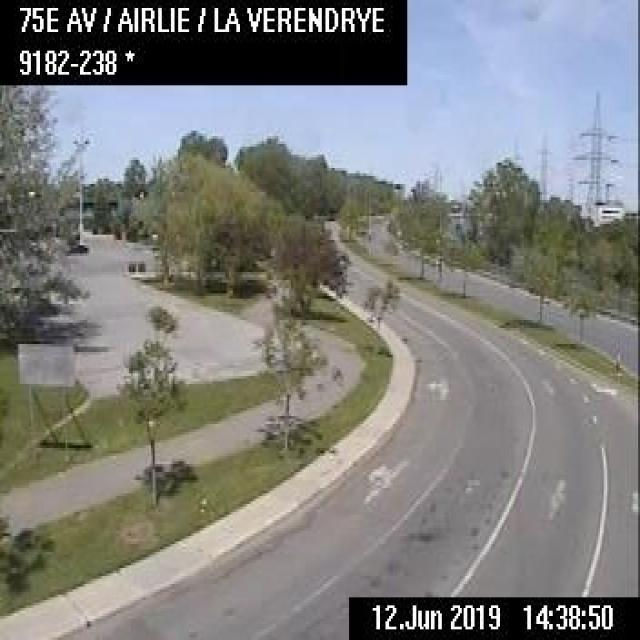vehicle: (331, 250, 346, 269)
